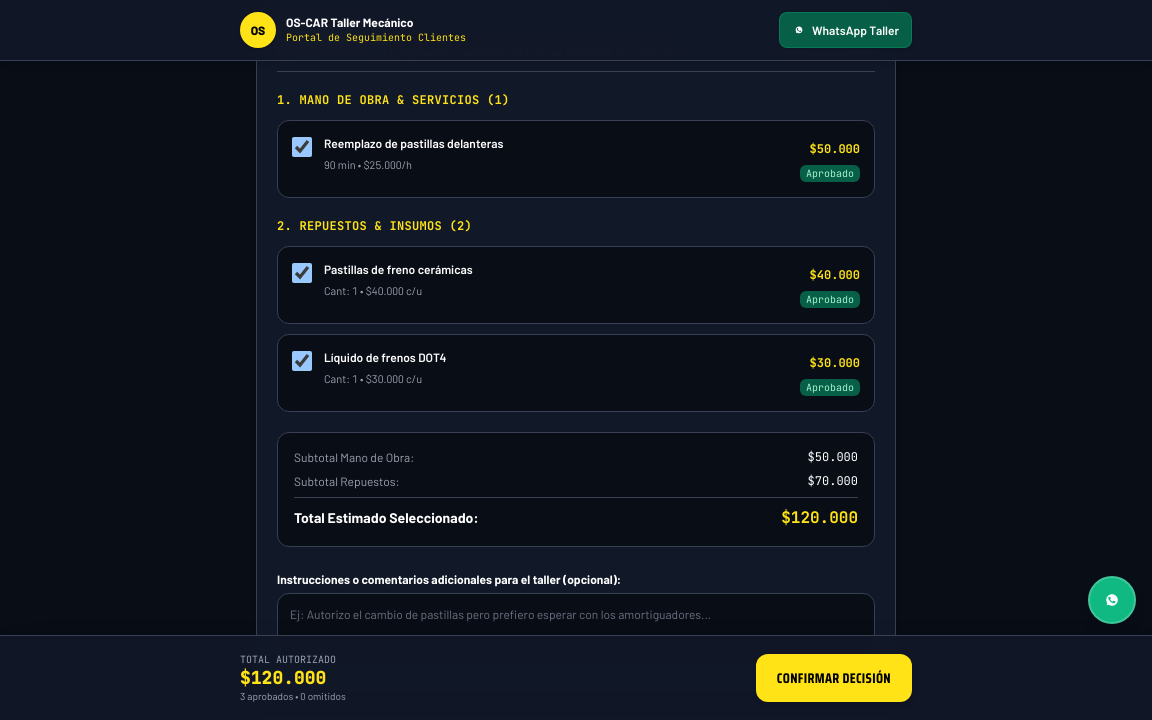
Test case: PublicTrackingPage - Portal de Seguimiento & Aprobación de Presupuesto › permite confirmar la decisión de presupuesto y muestra mensaje de confirmación
(page scrolled)
Expected: the heading "Presupuesto Técnico" is shown, [277, 23, 378, 43]
Note: Desmarcamos un ítem
Click the checkbox named "Aprobar repuesto Líquido de frenos DOT4" at x=302, y=361, box [292, 351, 312, 371]
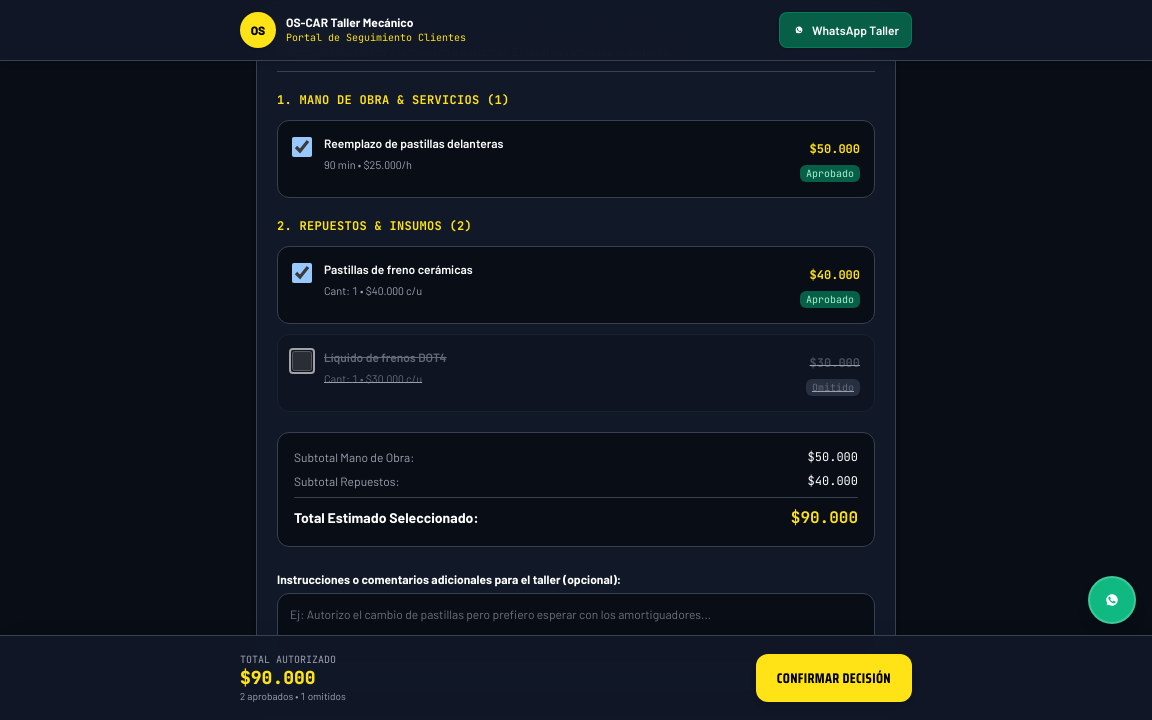
Note: Ingresamos notas opcionales
Type "Dejar el líquido para el próximo service." into the text box with placeholder "Autorizo el cambio" at x=576, y=630, box [277, 593, 875, 667]
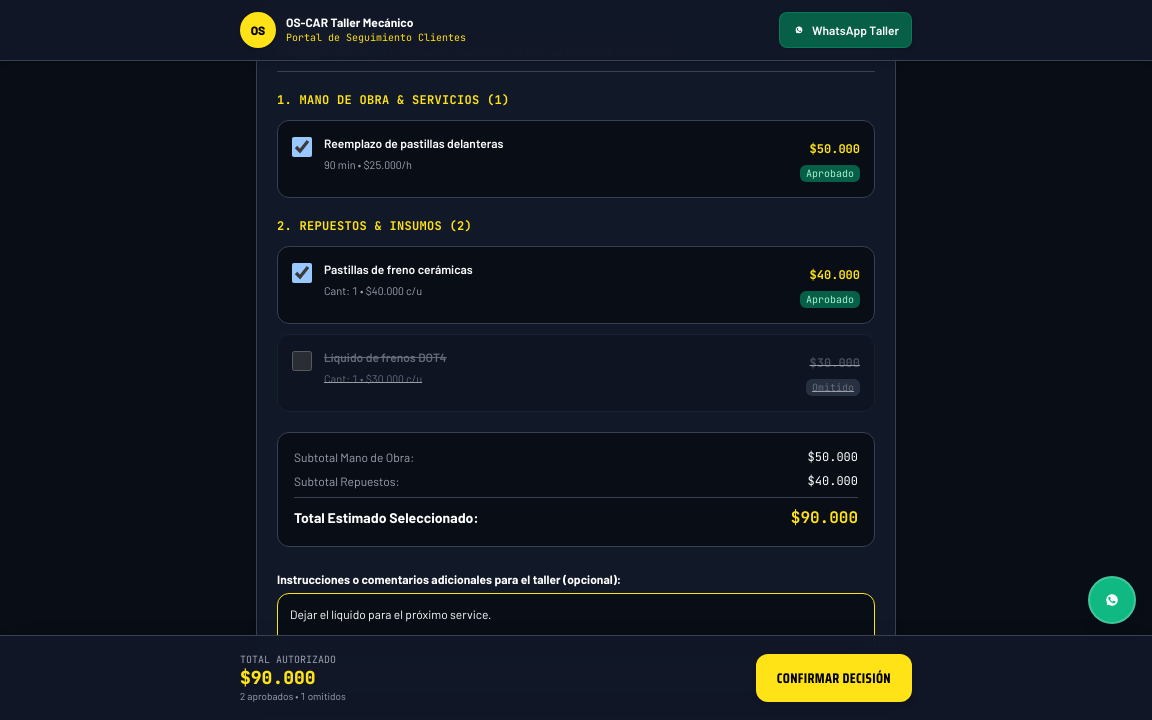
Note: Enviamos decisión
Click the button "Confirmar Decisión" at x=834, y=678, box [756, 654, 912, 702]
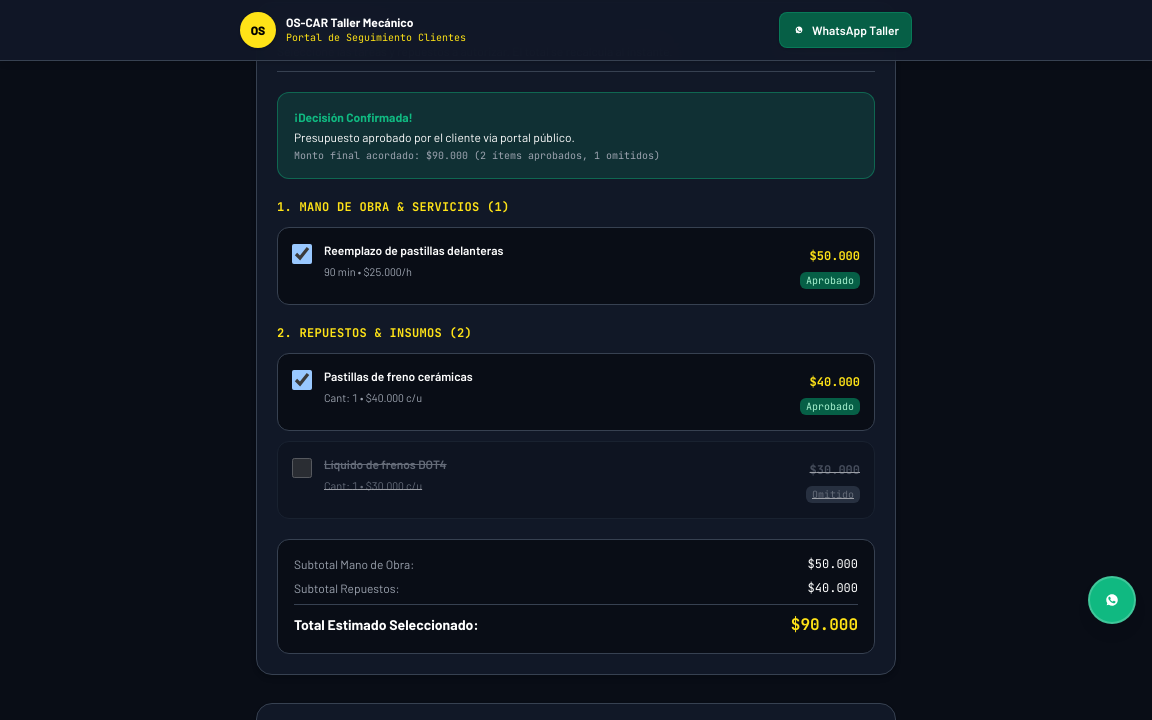
Result: the text "¡Decisión Confirmada!" is shown at [294, 110, 413, 124]
Result: the text "Presupuesto aprobado por el cliente vía portal público." is shown at [294, 130, 575, 144]
